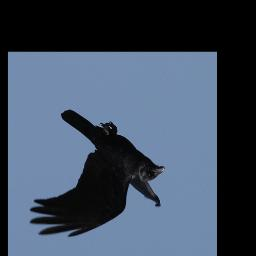Crow: (29, 109, 166, 239)
